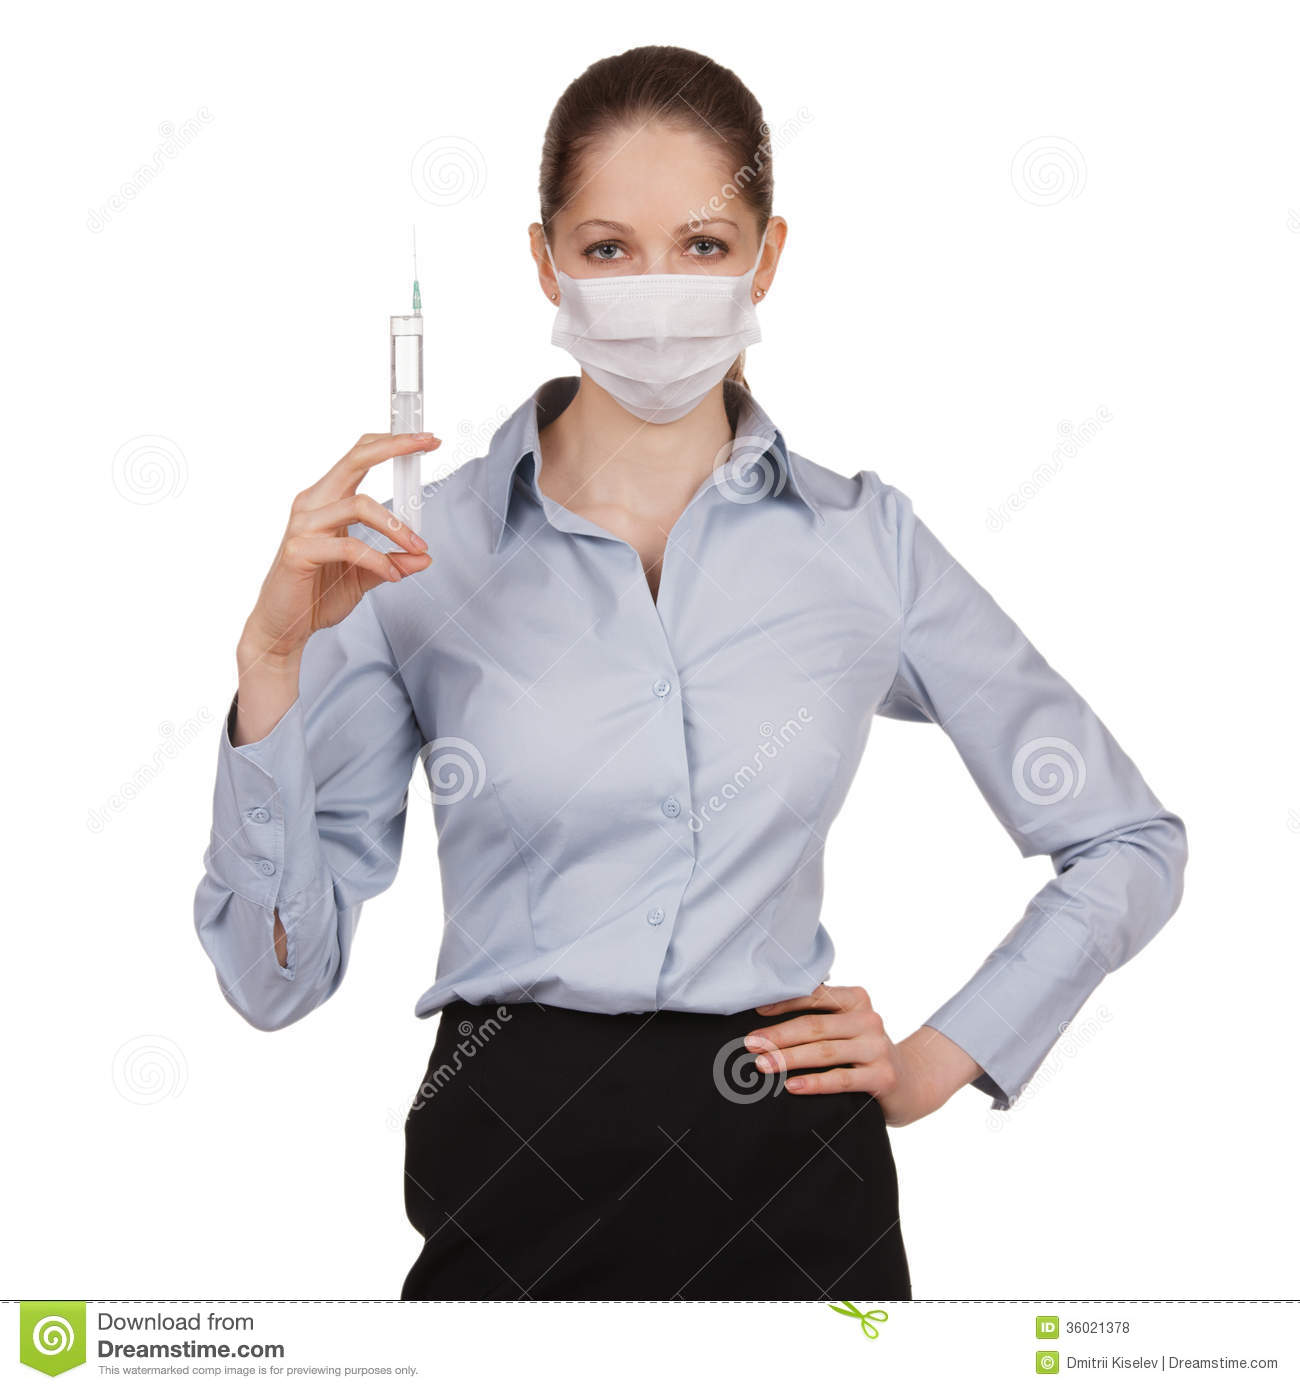mask: (549, 271, 761, 421)
